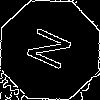N: (25, 25, 82, 77)
